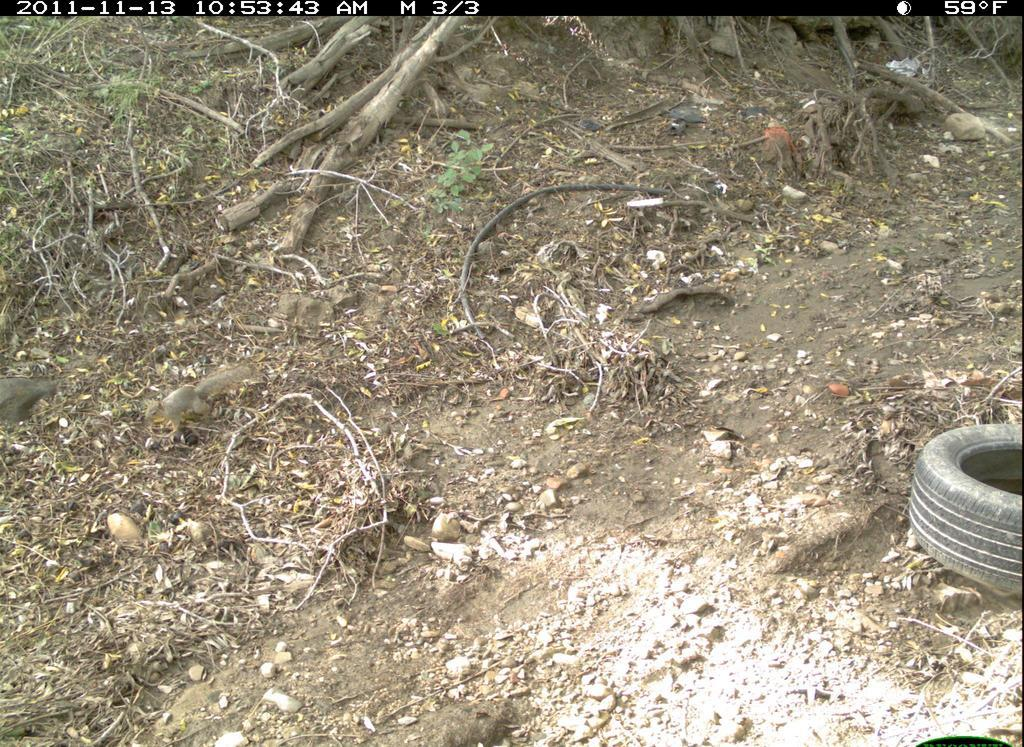squirrel: (129, 344, 272, 449)
